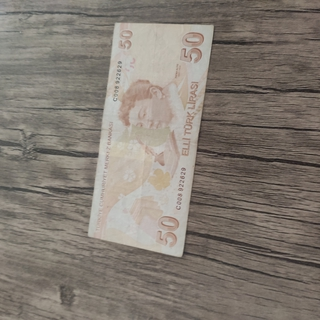50TLBack: (87, 22, 215, 257)
